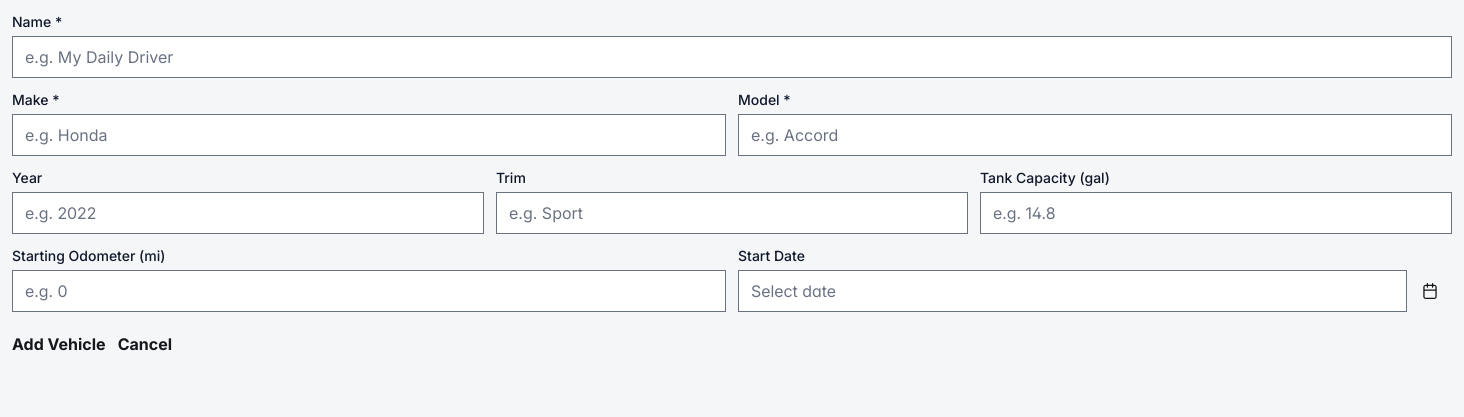
Test: VehicleForm › shows validation errors when required fields are empty on submit
The image size is (1464, 417).
Click the button "Add Vehicle".
click(59, 344)  # box [12, 332, 106, 356]
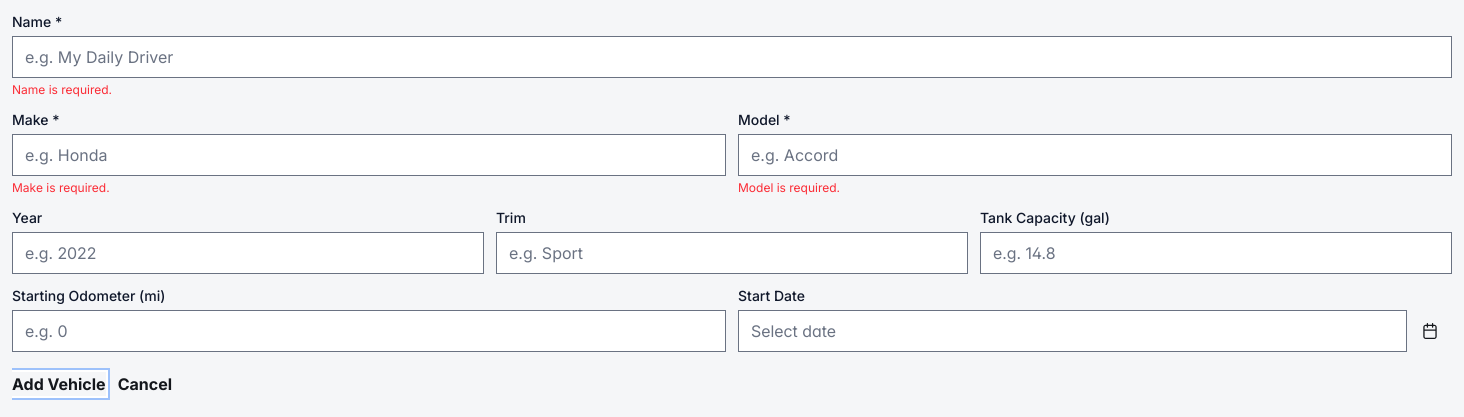
Result: the text "Name is required." is shown at [12, 82, 112, 97]
Result: the text "Make is required." is shown at [12, 180, 110, 195]
Result: the text "Model is required." is shown at [738, 180, 840, 195]
